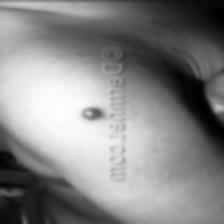Toxin: (82, 107, 100, 119)
